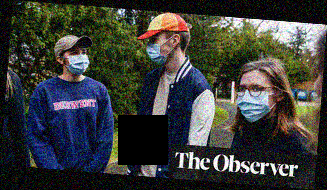with_mask: (234, 82, 274, 125), (64, 46, 91, 75), (146, 36, 170, 67)
